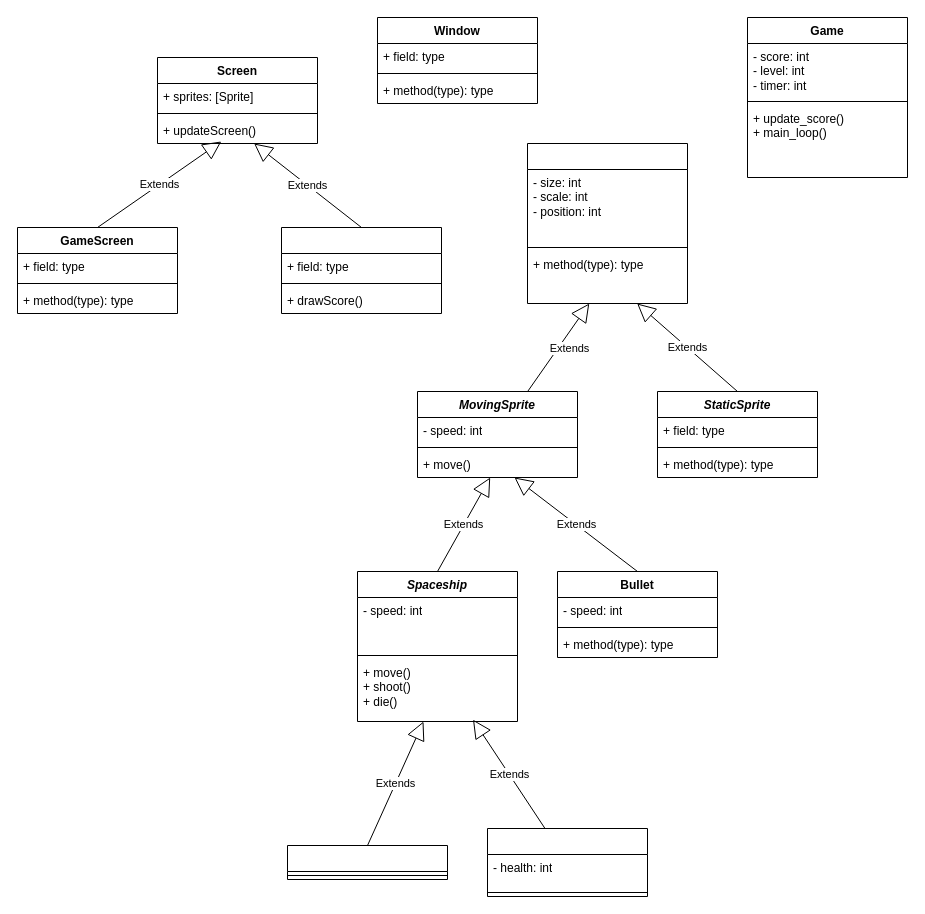
Some shapes in this 925 by 914 pixel diagram are drawn without their labels. Here are the shapes that lost their labels. From the top down, the box of each, then its label:
(526, 142, 688, 304): Sprite
(280, 226, 442, 314): InfoScreen
(286, 844, 448, 880): Enemy
(486, 828, 648, 896): Player
